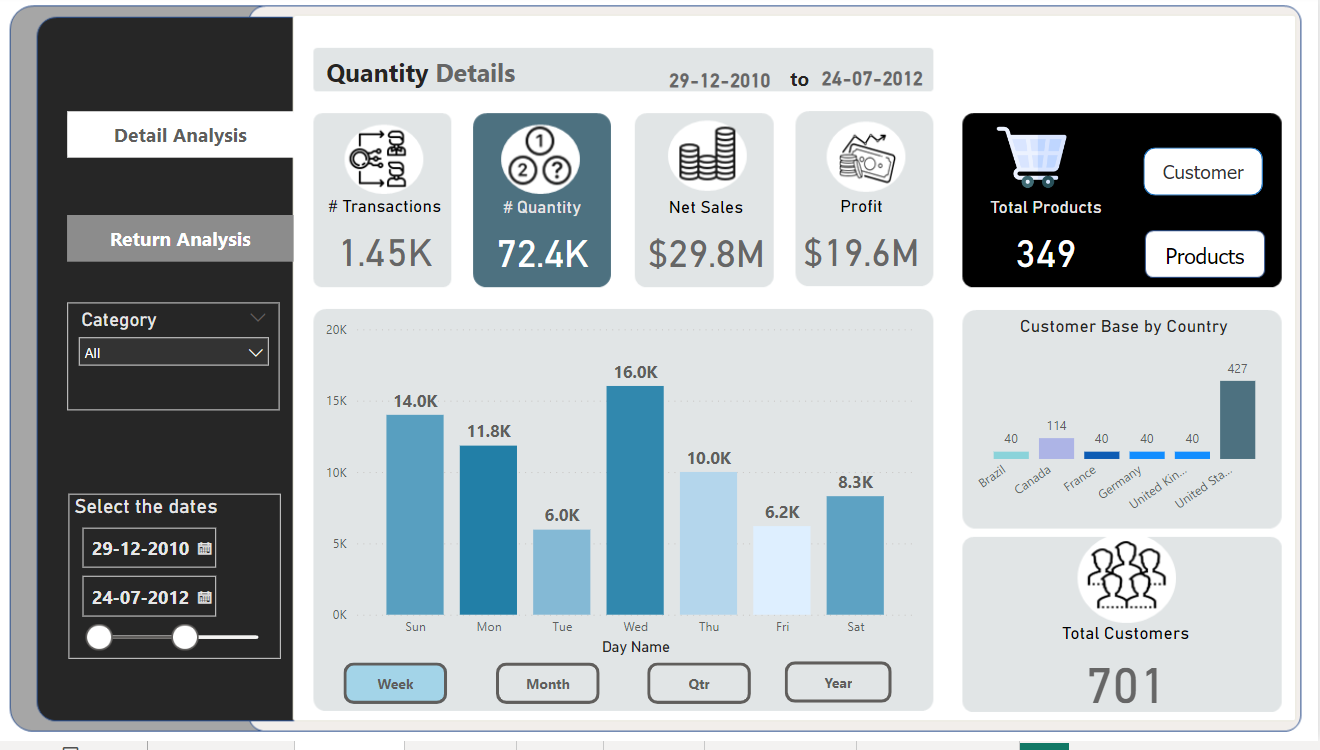

This screenshot's page, from the dashboard's own definition file:
{"tool":"powerbi","page":{"name":"Quantity","canvas":[1280,720],"ordinal":1},"visuals":[{"type":"card","title":"# Transactions","fields":{"Values":["MeasuresTable.# Transactions"]},"box":[319.6,193,120.6,85.6],"z":0},{"type":"actionButton","title":"InactiveYear","box":[765.7,642.9,103.4,39.7],"z":0,"group":"g1"},{"type":"actionButton","title":"InactiveMonth","box":[487,643.6,100.1,39.8],"z":0,"group":"g2"},{"type":"actionButton","title":"Inactive Qtr","box":[633.4,643.6,100.1,40.3],"z":0,"group":"g4"},{"type":"card","title":"# Quantity","fields":{"Values":["MeasuresTable.# Total Quantity"]},"box":[457.1,194.2,149.5,85.6],"z":1000},{"type":"actionButton","title":"Active Week","box":[340.7,644,100.1,40.3],"z":1000,"group":"g3"},{"type":"card","title":"Net Sales","fields":{"Values":["MeasuresTable.Net Revenue"]},"box":[615.1,194.2,149.5,85.6],"z":2000},{"type":"card","title":"Profit","fields":{"Values":["MeasuresTable.Total Profit"]},"box":[764.6,193,150.8,85.6],"z":3000},{"type":"card","title":"Total Products","fields":{"Values":["MeasuresTable.Total No of Products"]},"box":[927.4,194.2,180.9,85.6],"z":4000},{"type":"columnChart","title":"Week T Chart","fields":{"Category":["DimDates.Day Name"],"Y":["MeasuresTable.# Total Quantity"]},"box":[318.9,308.7,577.7,332.9],"z":6000},{"type":"group","id":"g1","title":"Year Button","box":[765.7,642.9,114.1,40.5],"z":9000},{"type":"group","id":"g2","title":"Month Button","box":[487,643.6,100.1,40.3],"z":10000},{"type":"group","id":"g3","title":"Week Button","box":[340.6,643.6,100.1,40.3],"z":11000},{"type":"group","id":"g4","title":"Qtr Button","box":[633.4,643.6,100.1,40.3],"z":12000},{"type":"card","title":"Total Customers","fields":{"Values":["MeasuresTable.Total Customer Base"]},"box":[955,605.3,279.1,91.8],"z":13000},{"type":"columnChart","title":"Customer Base by Country","fields":{"Category":["DimCustomers.CountryName"],"Y":["MeasuresTable.Total Customer Base"]},"box":[942.6,308.8,300.2,200.9],"z":14000},{"type":"textbox","box":[317.8,53.5,335.2,46.2],"z":15000},{"type":"actionButton","box":[73.7,112.7,218.1,44.8],"z":16000},{"type":"actionButton","box":[318.8,121.6,120.3,156.3],"z":17000},{"type":"actionButton","box":[630.1,122.8,120.3,156.3],"z":18000},{"type":"actionButton","box":[780.2,116.6,120.3,156.3],"z":19000},{"type":"card","fields":{"Values":["Min(DimDates.Date)"]},"box":[632.8,65,140.1,34.7],"z":20000},{"type":"card","fields":{"Values":["Max(DimDates.Date)"]},"box":[780.1,63.6,140.1,34.7],"z":21000},{"type":"textbox","box":[765.7,62.1,49.1,43.3],"z":22000},{"type":"slicer","title":"Select the dates","fields":{"Values":["DimDates.Date"]},"box":[75.1,481.1,205.1,158.9],"z":23000},{"type":"actionButton","box":[73.7,212.4,218.1,44.8],"z":24000},{"type":"actionButton","box":[1108.1,225.4,125.7,50.6],"z":25000},{"type":"shape","box":[1112.4,147.4,115.6,46.2],"z":26000},{"type":"actionButton","box":[1112.4,147.4,115.6,46.2],"z":27000},{"type":"slicer","fields":{"Values":["DimCategory.CategoryName"]},"box":[73.6,296.7,205,103.7],"z":28000},{"type":"image","box":[964.8,118.2,78.4,77.2],"z":28001}]}

Visuals, with their boxes on the page's 1280x720 design canvas (x1, y1, x2, y2). These are canvas units, not pixel positions in the 1320x750 screenshot, which may show the page scaled, cropped or inside an application window:
"# Transactions" card: x1=320, y1=193, x2=440, y2=279
"InactiveYear" actionButton: x1=766, y1=643, x2=869, y2=683
"InactiveMonth" actionButton: x1=487, y1=644, x2=587, y2=683
"Inactive Qtr" actionButton: x1=633, y1=644, x2=734, y2=684
"# Quantity" card: x1=457, y1=194, x2=607, y2=280
"Active Week" actionButton: x1=341, y1=644, x2=441, y2=684
"Net Sales" card: x1=615, y1=194, x2=765, y2=280
"Profit" card: x1=765, y1=193, x2=915, y2=279
"Total Products" card: x1=927, y1=194, x2=1108, y2=280
"Week T Chart" columnChart: x1=319, y1=309, x2=897, y2=642
"Year Button" group: x1=766, y1=643, x2=880, y2=683
"Month Button" group: x1=487, y1=644, x2=587, y2=684
"Week Button" group: x1=341, y1=644, x2=441, y2=684
"Qtr Button" group: x1=633, y1=644, x2=734, y2=684
"Total Customers" card: x1=955, y1=605, x2=1234, y2=697
"Customer Base by Country" columnChart: x1=943, y1=309, x2=1243, y2=510
textbox: x1=318, y1=54, x2=653, y2=100
actionButton: x1=74, y1=113, x2=292, y2=158
actionButton: x1=319, y1=122, x2=439, y2=278
actionButton: x1=630, y1=123, x2=750, y2=279
actionButton: x1=780, y1=117, x2=900, y2=273
card - Min(DimDates.Date): x1=633, y1=65, x2=773, y2=100
card - Max(DimDates.Date): x1=780, y1=64, x2=920, y2=98
textbox: x1=766, y1=62, x2=815, y2=105
"Select the dates" slicer: x1=75, y1=481, x2=280, y2=640
actionButton: x1=74, y1=212, x2=292, y2=257
actionButton: x1=1108, y1=225, x2=1234, y2=276
shape: x1=1112, y1=147, x2=1228, y2=194
actionButton: x1=1112, y1=147, x2=1228, y2=194
slicer - DimCategory.CategoryName: x1=74, y1=297, x2=279, y2=400
image: x1=965, y1=118, x2=1043, y2=195
